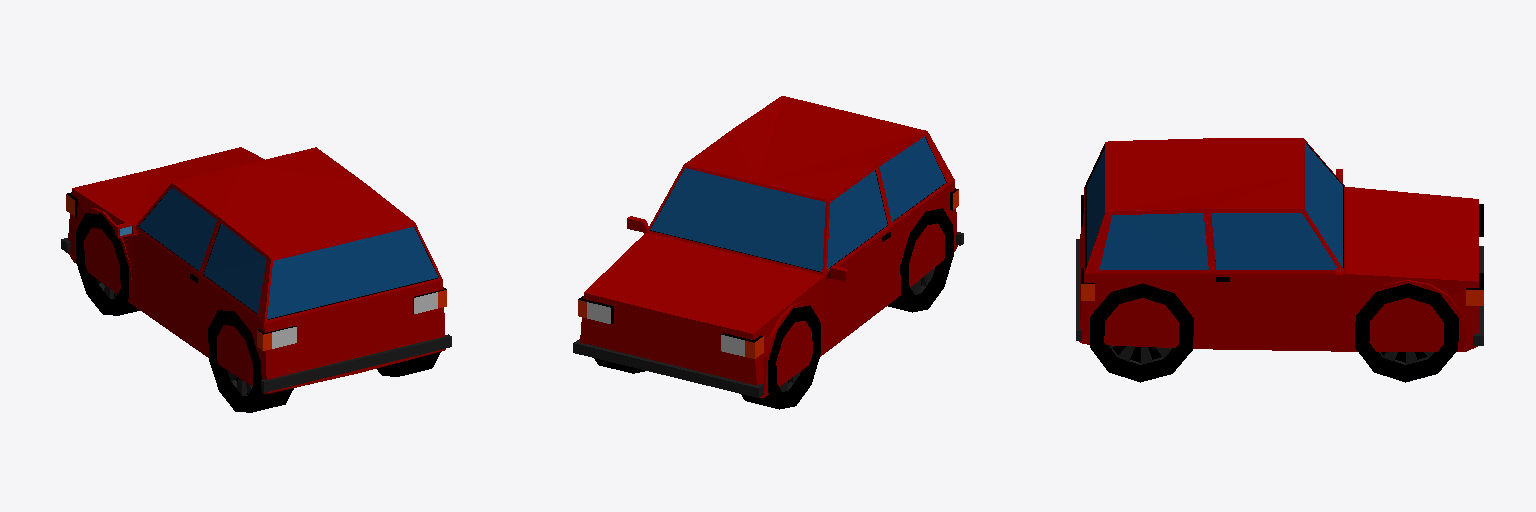
Rendered from mini.obj.
3 views of the same model, side by side, from view 1: azimuth 30°, elevation 25°; view 2: azimuth 150°, elevation 25°; view 3: azimuth 270°, elevation 25° (orthographic).
Parts seen in each view (by area): view 1: car001.002_Cube.004; view 2: car001.002_Cube.004; view 3: car001.002_Cube.004.
Part boxes in pixels (left/top/right/bottom): car001.002_Cube.004: left=61, top=147, right=451, bottom=412; car001.002_Cube.004: left=573, top=96, right=963, bottom=409; car001.002_Cube.004: left=1076, top=138, right=1483, bottom=382.
Size of the model in its own units: 1.07 by 0.7678 by 1.72.